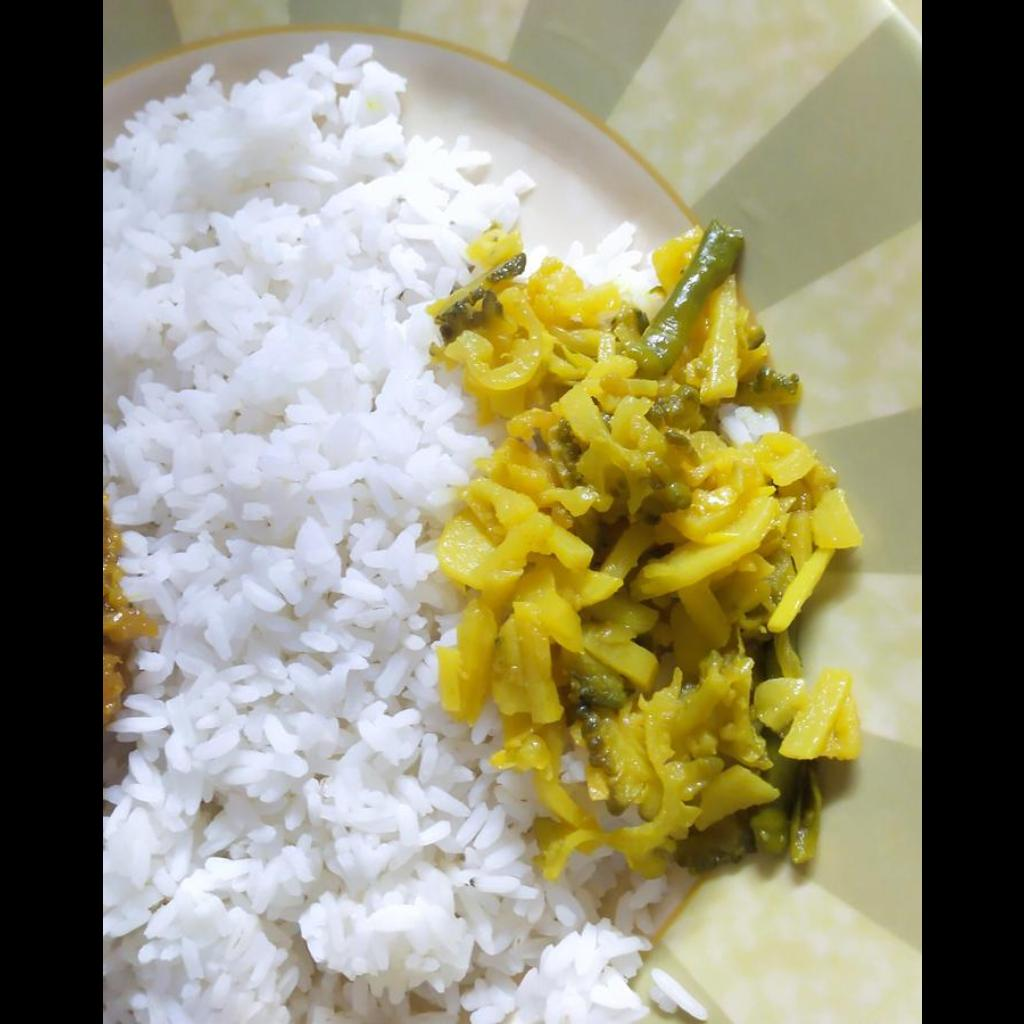rice: (102, 44, 708, 1019)
vegetable: (416, 224, 864, 878)
